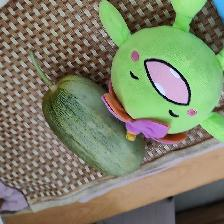gua: (56, 87, 105, 146)
